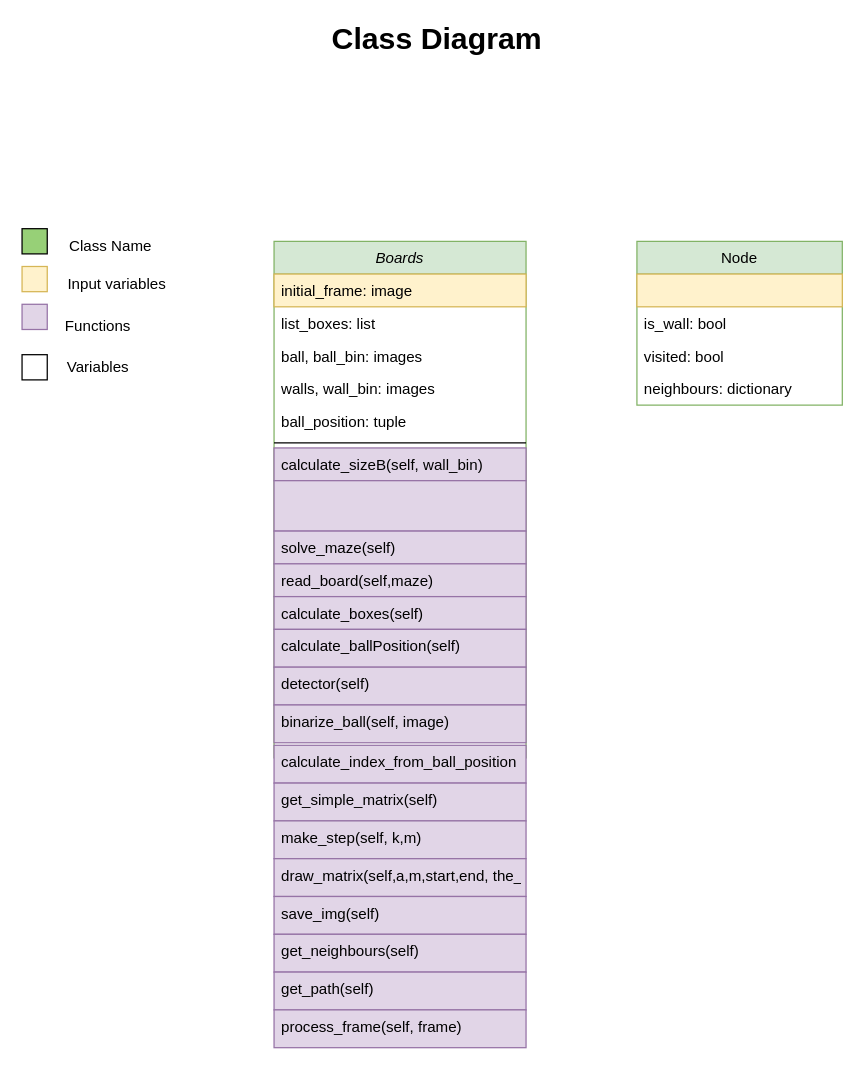
Some shapes in this 864 by 1074 pixel diagram are drawn without their labels. Each missing label, with the centre of its shape:
delete_background(self, wall_bin, img): [399,505]
Pos: tuple: [739,290]
